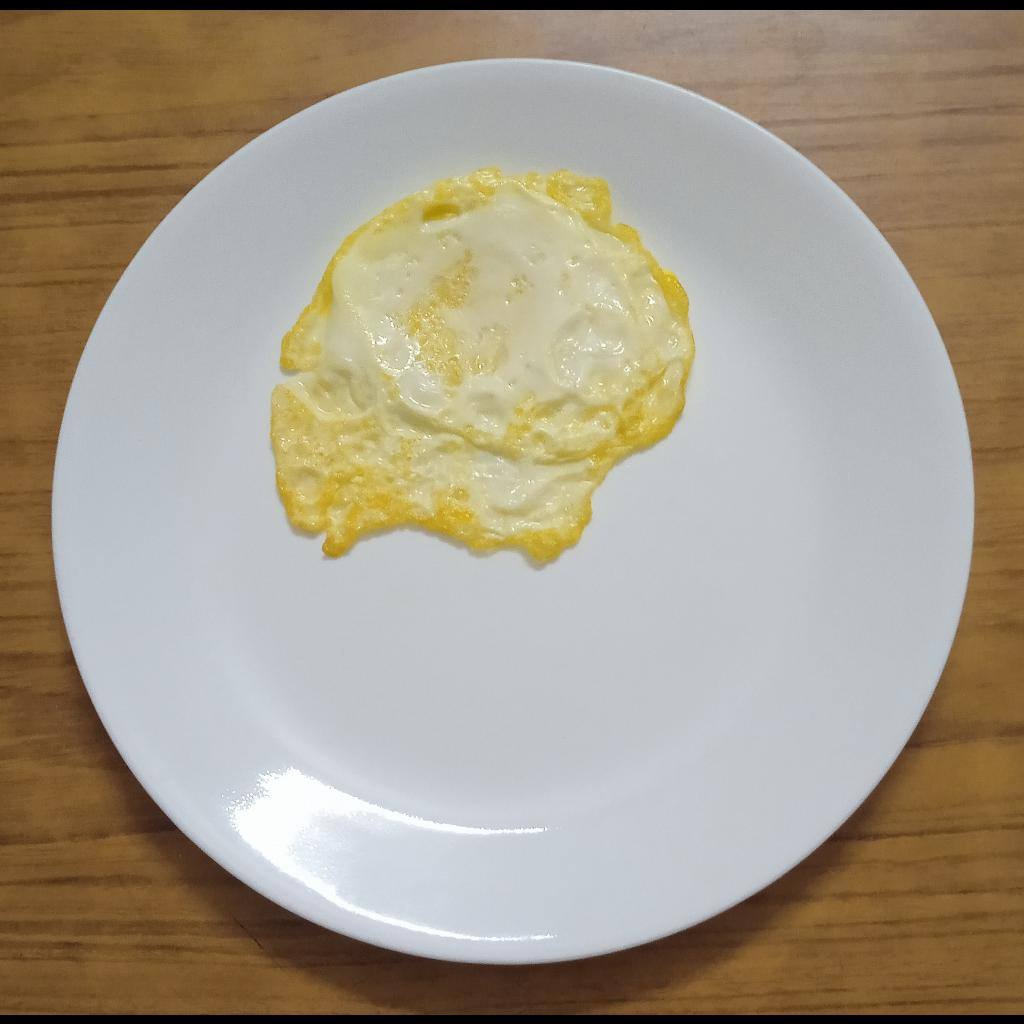egg-poached: (266, 172, 695, 563)
